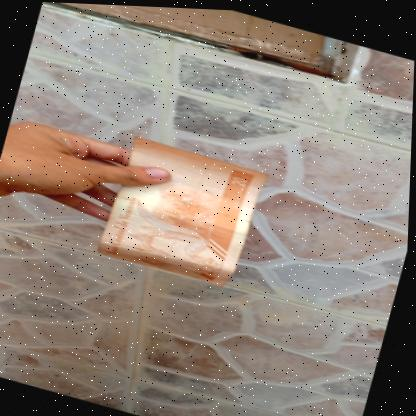twenty-back-vef: (97, 132, 271, 293)
